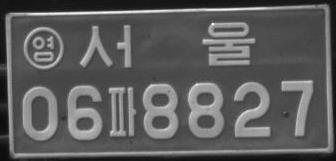0: (21, 85, 58, 142)
2: (232, 80, 271, 138)
6: (66, 84, 103, 141)
7: (280, 79, 314, 137)
8: (142, 82, 179, 140), (187, 81, 224, 139)
서울_D: (79, 21, 256, 70)
영: (23, 25, 64, 70)
파: (108, 86, 137, 136)
